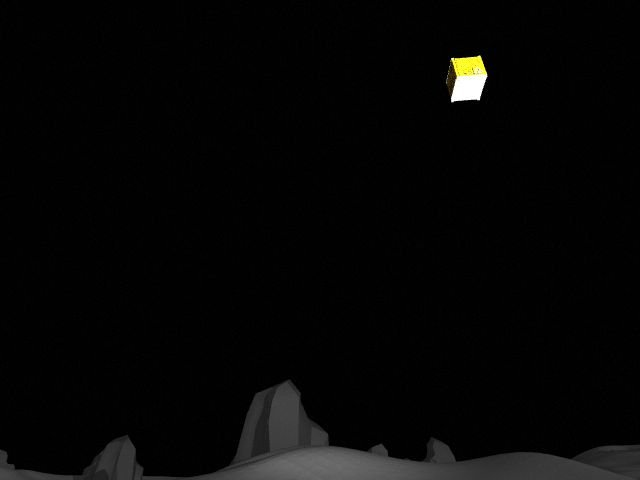cubesat: (443, 49, 490, 107)
